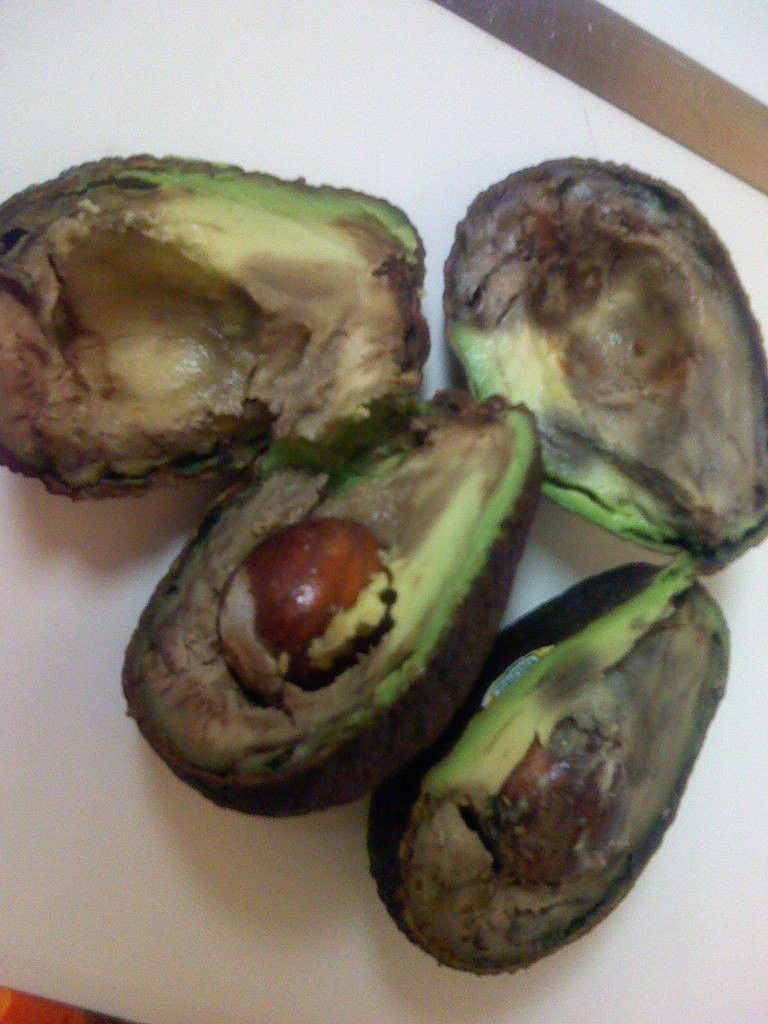damaged_avocado: (1, 152, 417, 486), (460, 544, 758, 995), (454, 147, 768, 562), (178, 412, 474, 796)
